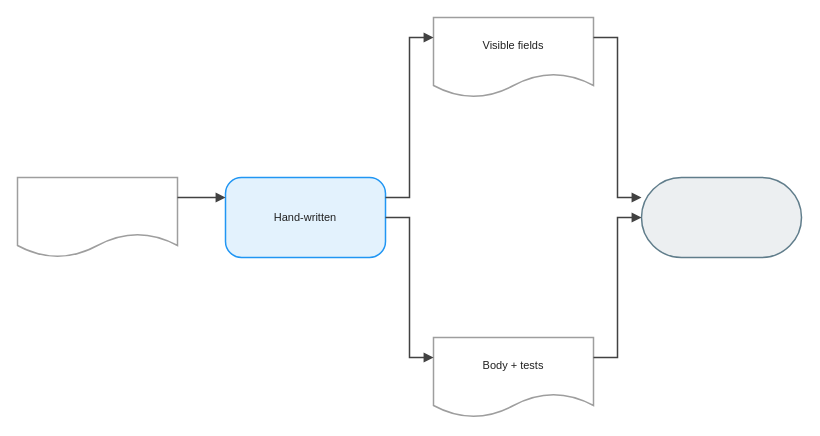
The diagram is 820 pixels wide and 436 high, and some of its shapes have lost their labels. The centre of each missing label's shape, as x and y in pixels:
164 tasks: (721,217)
Python synth.: (97,217)
